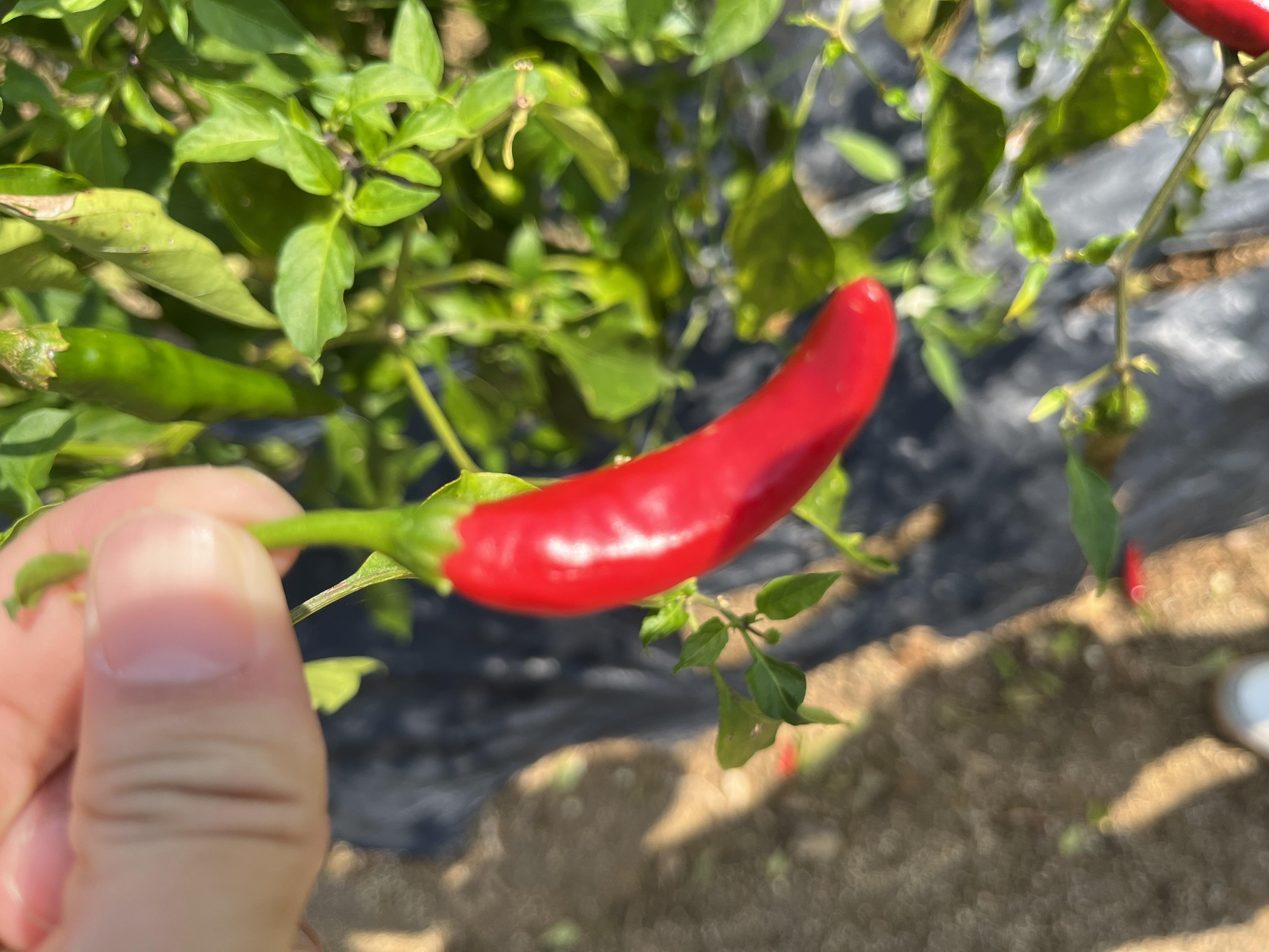Buah Cabai Sehat: (441, 263, 913, 697)
